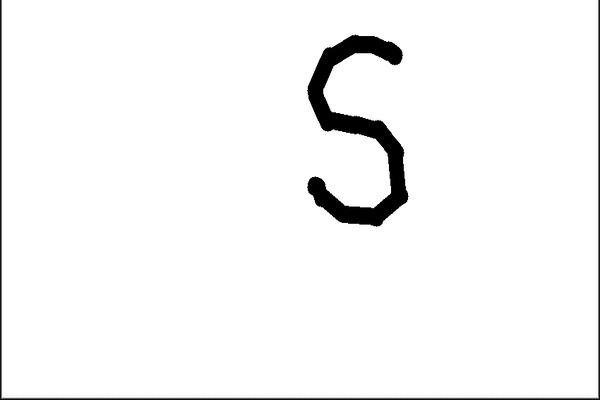S: (291, 31, 423, 240)
